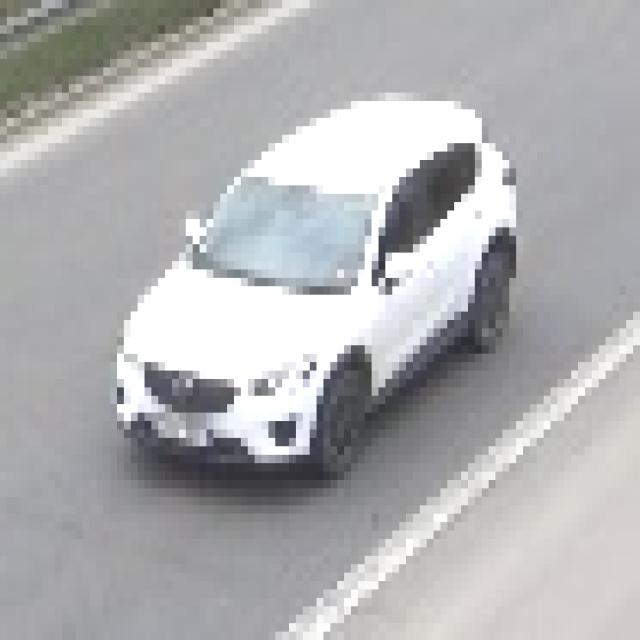SUV: (127, 109, 491, 462)
